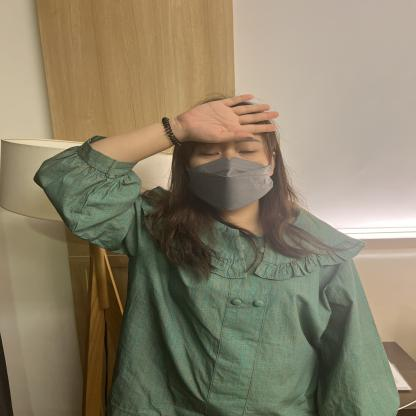Sick: (0, 61, 386, 158)
